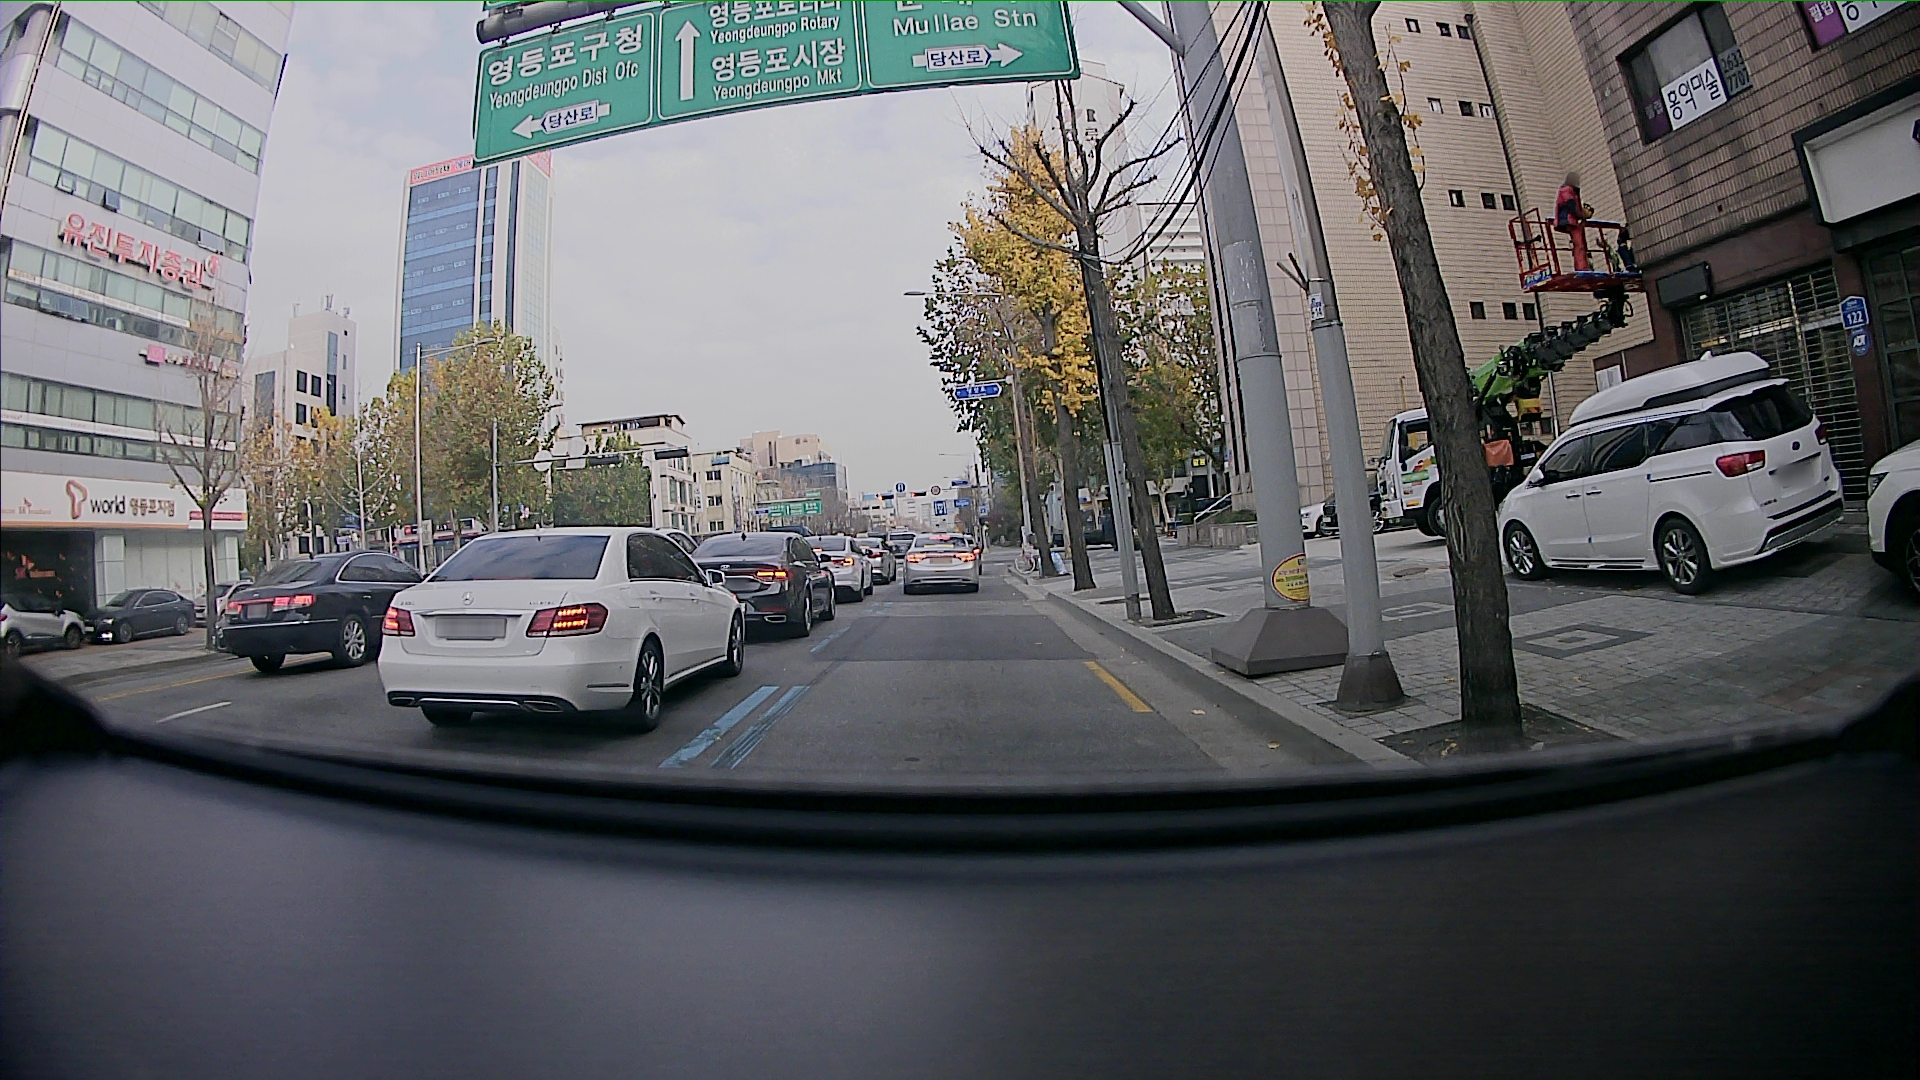trafficLight: (872, 489, 934, 501)
